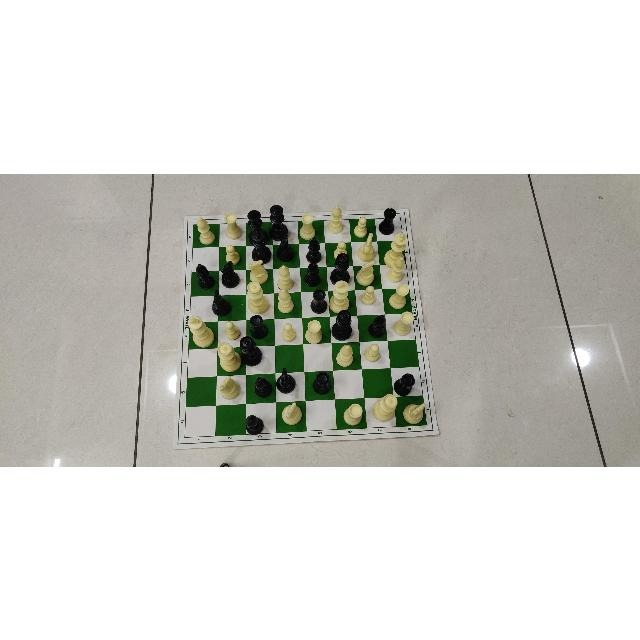black-bishop: (366, 314, 388, 339), (243, 413, 265, 436), (252, 374, 273, 398), (303, 260, 322, 285), (196, 262, 214, 288), (306, 237, 322, 263)
black-king: (245, 208, 267, 244), (269, 203, 289, 240), (250, 227, 269, 262)
black-knight: (275, 367, 298, 393), (211, 288, 232, 316), (221, 260, 241, 287), (276, 235, 296, 260)
black-queen: (330, 309, 353, 341), (238, 335, 262, 365), (330, 254, 350, 286)
black-rook: (391, 373, 416, 395), (309, 288, 329, 314), (379, 207, 397, 235), (249, 313, 269, 338), (313, 371, 333, 395)
white-bishop: (193, 214, 216, 245), (327, 204, 347, 235), (333, 342, 355, 370), (276, 287, 296, 315), (388, 254, 406, 283), (276, 265, 296, 291)
white-king: (186, 315, 215, 347), (383, 234, 408, 266), (330, 278, 350, 312)
white-knight: (247, 257, 271, 287), (400, 398, 428, 423), (216, 374, 243, 399), (278, 401, 305, 426), (354, 231, 376, 261), (354, 261, 376, 285)
white-pawn: (278, 320, 300, 344), (362, 342, 383, 363), (353, 214, 371, 237), (359, 284, 378, 304), (223, 244, 241, 265), (224, 319, 241, 339), (332, 240, 349, 260)
white-queen: (245, 281, 270, 313), (373, 392, 397, 422), (216, 341, 239, 372)
white-rook: (393, 311, 415, 337), (341, 402, 364, 426), (389, 283, 409, 309), (299, 212, 317, 240), (225, 214, 245, 238), (304, 319, 323, 343)
